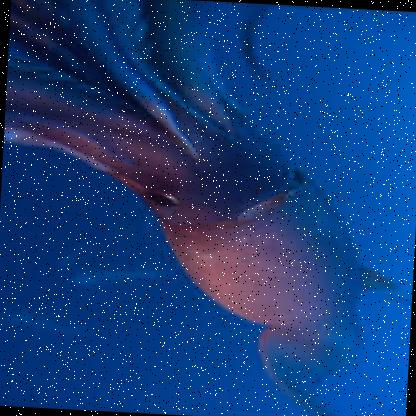colossal_squid: (0, 1, 409, 407)
